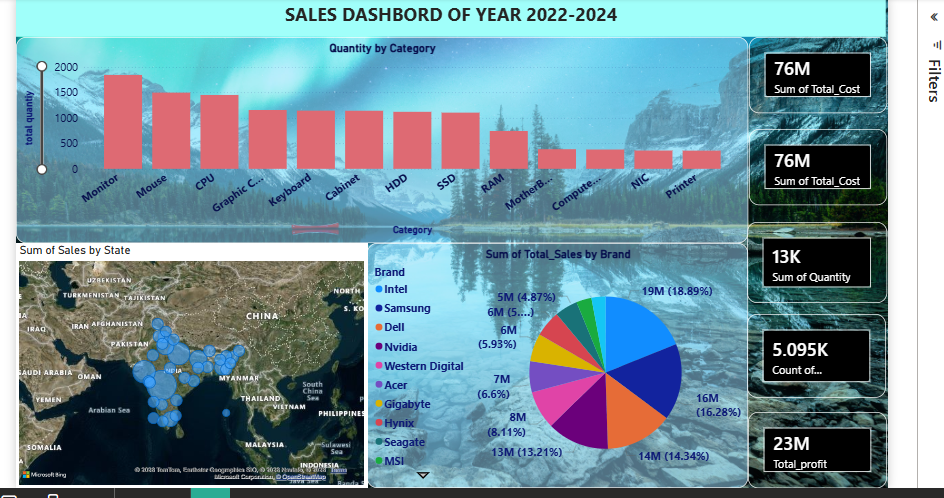

Layout of this report page (visuals, bound fields, positions):
{"tool":"powerbi","page":{"name":"Page 1","canvas":[1280,720],"ordinal":0},"visuals":[{"type":"textbox","box":[0,0,1278.4,57.3],"z":0},{"type":"cardVisual","fields":{"Data":["Sum(Sales_Data.Total_Cost)"]},"box":[1077.1,192.5,202.8,111.7],"z":1000},{"type":"cardVisual","fields":{"Data":["Sum(Sales_Data.Quantity)"]},"box":[1074.1,329.1,205.7,119],"z":3000},{"type":"cardVisual","fields":{"Data":["CountNonNull(Sales_Data.Order_Number)"]},"box":[1074.1,464.3,204.2,123.4],"z":4000},{"type":"cardVisual","fields":{"Data":["Sales_Data.Total_profit"]},"box":[1075.6,608.3,204.2,111.7],"z":5000},{"type":"clusteredColumnChart","title":"Quantity by Category","fields":{"Y":["Sum(Sales_Data.Quantity)"],"Category":["Sales_Data.Category"]},"box":[0,57.3,1075.6,302.7],"z":6000},{"type":"pieChart","fields":{"Y":["Sum(Sales_Data.Total_Sales)"],"Category":["Sales_Data.Brand"]},"box":[515.8,360,559.8,360],"z":7000},{"type":"map","fields":{"Category":["State_list.State"],"Size":["Sum(Sales_Data.Sales)"]},"box":[0,360,515.8,360],"z":8000},{"type":"cardVisual","fields":{"Data":["Sum(Sales_Data.Total_Cost)"]},"box":[1077.1,57.3,202.8,111.7],"z":9001}]}

Visuals, with their boxes in screenshot pixels (x1, y1, x2, y2):
textbox: [left=12, top=0, right=886, bottom=34]
cardVisual - Sum(Sales_Data.Total_Cost): [left=749, top=127, right=887, bottom=203]
cardVisual - Sum(Sales_Data.Quantity): [left=746, top=220, right=887, bottom=301]
cardVisual - CountNonNull(Sales_Data.Order_Number): [left=746, top=312, right=886, bottom=397]
cardVisual - Sales_Data.Total_profit: [left=747, top=411, right=887, bottom=487]
"Quantity by Category" clusteredColumnChart: [left=12, top=34, right=747, bottom=241]
pieChart - Sum(Sales_Data.Total_Sales) x Sales_Data.Brand: [left=365, top=241, right=747, bottom=487]
map - State_list.State x Sum(Sales_Data.Sales): [left=12, top=241, right=365, bottom=487]
cardVisual - Sum(Sales_Data.Total_Cost): [left=749, top=34, right=887, bottom=111]
